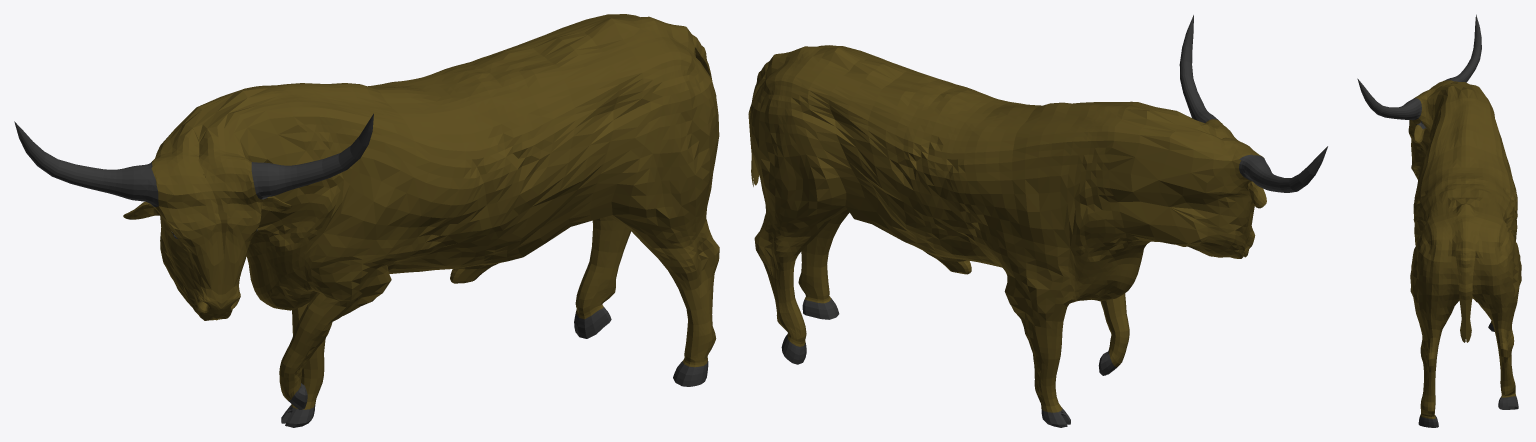
The model's file is cattle.obj.
The picture shows the model from 3 angles, left to right: view 1: azimuth 30°, elevation 25°; view 2: azimuth 150°, elevation 25°; view 3: azimuth 270°, elevation 25°; orthographic projection. The views are drawn at different scales.
Parts seen in each view (by area): view 1: Cattle; view 2: Cattle; view 3: Cattle.
Boxes of the visible parts, bbox=[...] form: Cattle: bbox=[14, 14, 719, 427]; Cattle: bbox=[748, 15, 1327, 427]; Cattle: bbox=[1357, 14, 1521, 427].
Bounding box in the file's own units: 332 × 187 × 116.
